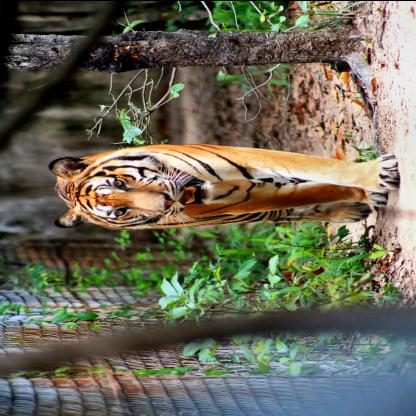tiger: (52, 154, 208, 236)
